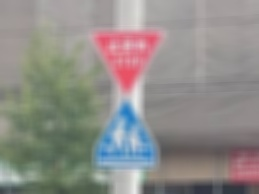Regulatory_sign_triangle: (91, 29, 165, 95)
